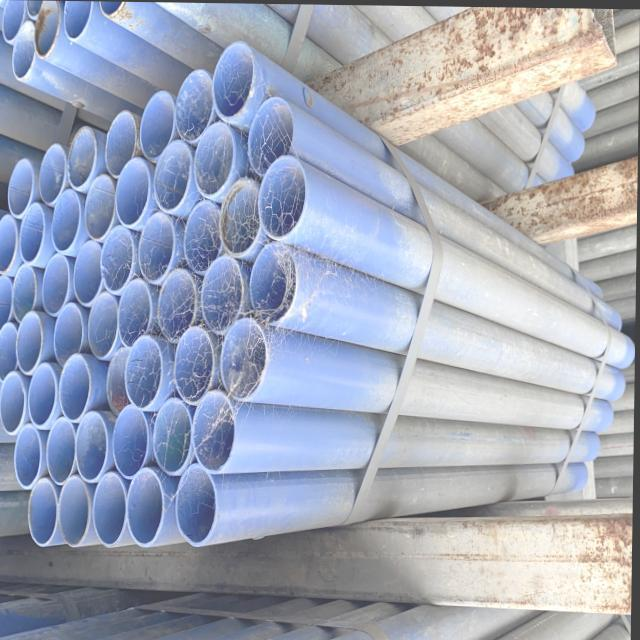pipe: (258, 154, 308, 241), (250, 239, 300, 325), (222, 314, 270, 402), (192, 388, 238, 474), (248, 94, 296, 174), (176, 462, 220, 547), (219, 175, 264, 258), (201, 252, 246, 334), (212, 40, 255, 120), (154, 397, 196, 476), (174, 326, 216, 404), (194, 119, 236, 197), (157, 266, 200, 342), (124, 332, 165, 410), (128, 466, 166, 548), (184, 199, 225, 275), (112, 402, 152, 478), (175, 66, 215, 142), (154, 138, 194, 212), (92, 471, 130, 548), (138, 212, 176, 284), (140, 88, 177, 160), (116, 156, 152, 228), (77, 409, 111, 482), (118, 278, 153, 348), (100, 225, 136, 293), (84, 172, 118, 242), (59, 475, 92, 547), (59, 352, 92, 422), (106, 108, 139, 178), (88, 290, 121, 360), (29, 477, 60, 548), (28, 362, 61, 428), (106, 345, 138, 413), (53, 302, 86, 366), (66, 125, 98, 191), (74, 240, 106, 306), (48, 416, 78, 486), (52, 188, 82, 254), (15, 422, 44, 490), (40, 142, 70, 206), (42, 252, 72, 316), (0, 370, 28, 436), (8, 158, 37, 218), (17, 311, 44, 375), (20, 200, 47, 264), (34, 2, 64, 59), (12, 266, 39, 322), (12, 22, 38, 79), (63, 0, 96, 41), (0, 321, 20, 384), (0, 214, 20, 276), (1, 0, 28, 40), (0, 275, 14, 333), (98, 0, 126, 20)
